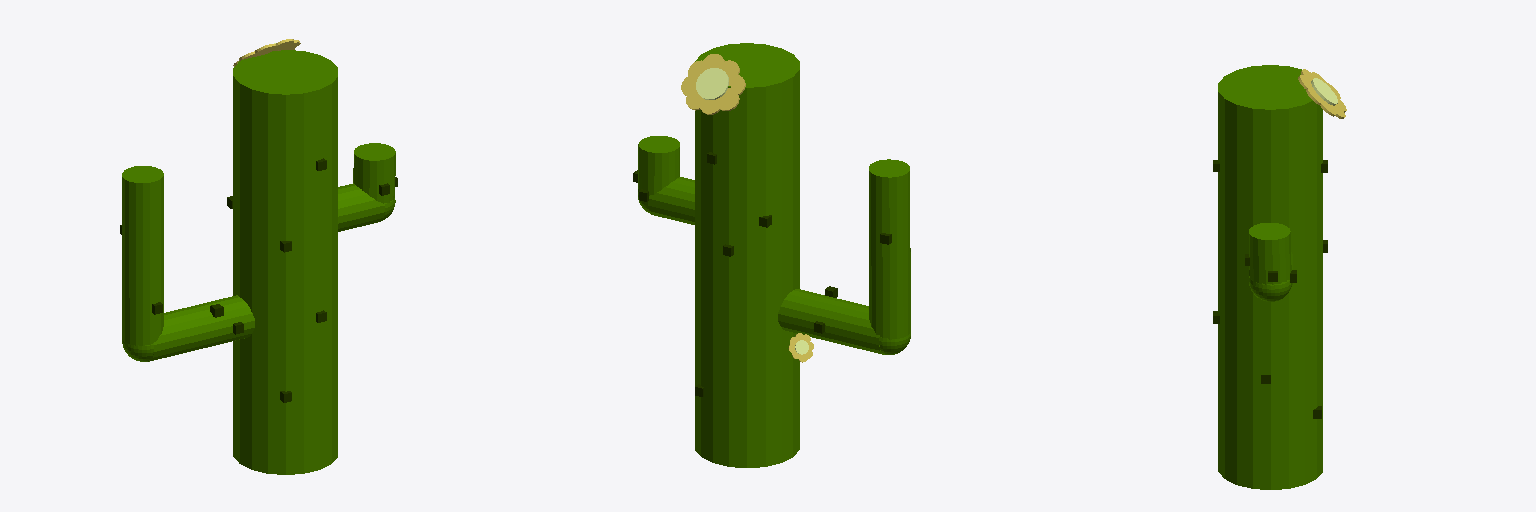
3 renders of one model, left to right at view 1: azimuth 30°, elevation 25°; view 2: azimuth 150°, elevation 25°; view 3: azimuth 270°, elevation 25°, orthographic.
Parts seen in each view (by area): view 1: Cylinder001, Cylinder004, Cylinder005, Cylinder003, Cylinder002; view 2: Cylinder001, Cylinder004, Cylinder005, Cylinder003, Cylinder002, Cylinder019; view 3: Cylinder001, Cylinder003, Sphere001.
Part boxes in pixels (bbox=[...]): Cylinder001: bbox=[233, 50, 337, 474]; Cylinder004: bbox=[122, 166, 163, 345]; Cylinder005: bbox=[148, 295, 254, 361]; Cylinder003: bbox=[353, 143, 395, 203]; Cylinder002: bbox=[338, 183, 384, 231]; Cylinder001: bbox=[695, 43, 799, 467]; Cylinder004: bbox=[869, 159, 910, 339]; Cylinder005: bbox=[778, 289, 883, 354]; Cylinder003: bbox=[638, 136, 679, 195]; Cylinder002: bbox=[648, 177, 694, 224]; Cylinder019: bbox=[696, 68, 728, 99]; Cylinder001: bbox=[1218, 65, 1322, 489]; Cylinder003: bbox=[1249, 223, 1291, 284]; Sphere001: bbox=[1249, 278, 1291, 301].
Bounding box in the file's own units: 24.67 × 34.63 × 10.47.
4 materials, 4 textured.